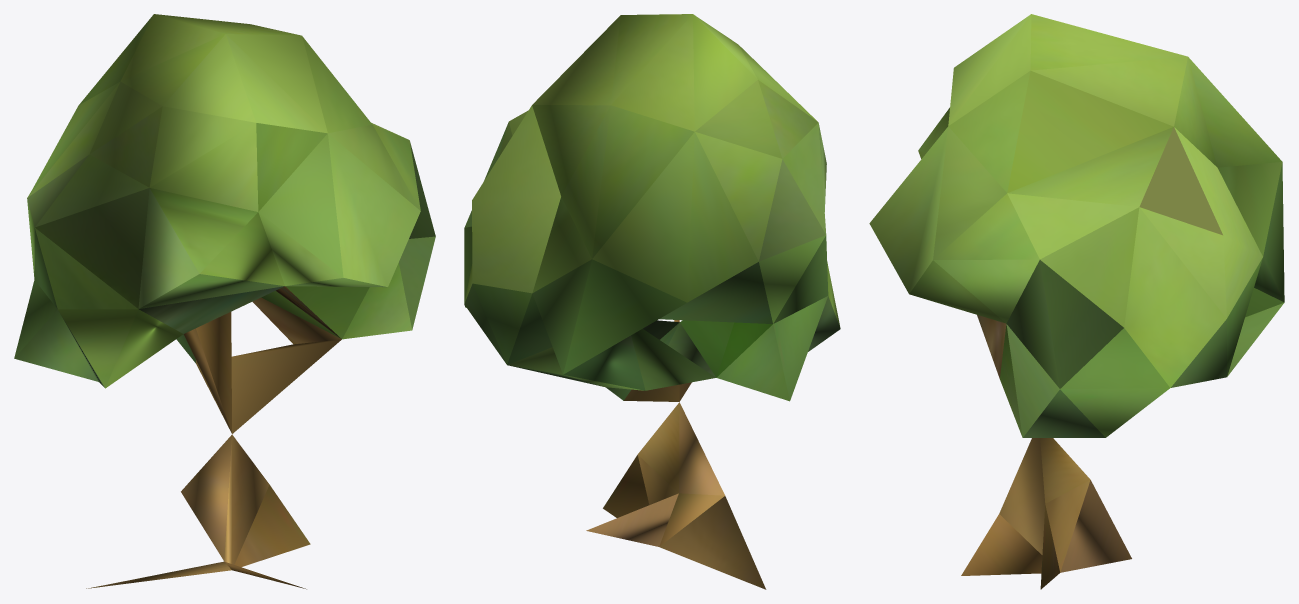
The model's file is tree-forest-meshy-lod0.glb.
The picture shows the model from 3 angles, left to right: view 1: azimuth 30°, elevation 25°; view 2: azimuth 150°, elevation 25°; view 3: azimuth 270°, elevation 25°; orthographic projection. The views are drawn at different scales.
Parts seen in each view (by area): view 1: Mesh_0; view 2: Mesh_0; view 3: Mesh_0.
Part boxes in pixels (x1,y1,x2,y2): Mesh_0: (14, 14, 435, 589); Mesh_0: (464, 14, 840, 589); Mesh_0: (869, 14, 1284, 589).
Bounding box in the file's own units: 8.46 × 11.45 × 7.85.
Materials: 1 (1 with a texture image).
